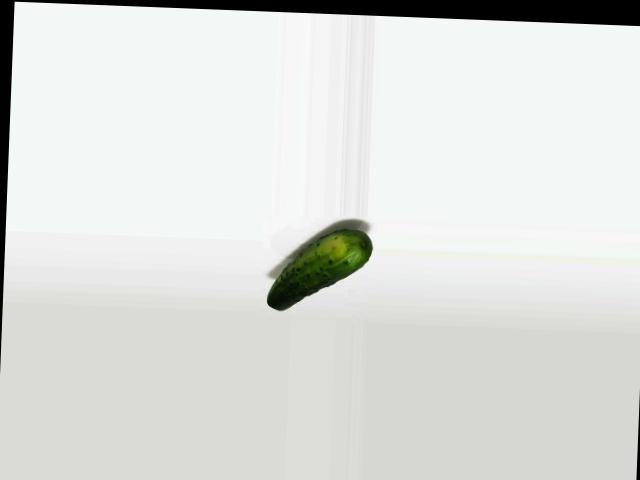cucumber: (266, 226, 372, 313)
